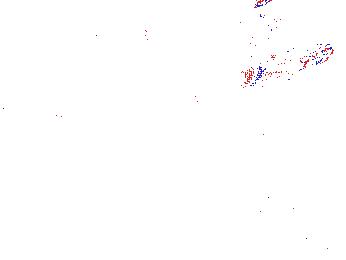X-ray fish: (47, 32, 120, 71)
glassfish: (223, 102, 325, 169)
red belly glassfish: (255, 9, 286, 24)
redtail glassfish: (240, 40, 339, 92), (233, 18, 282, 72), (273, 80, 339, 107), (116, 13, 152, 46)
